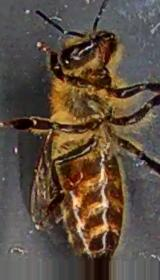varroa_mite: (50, 168, 90, 197)
